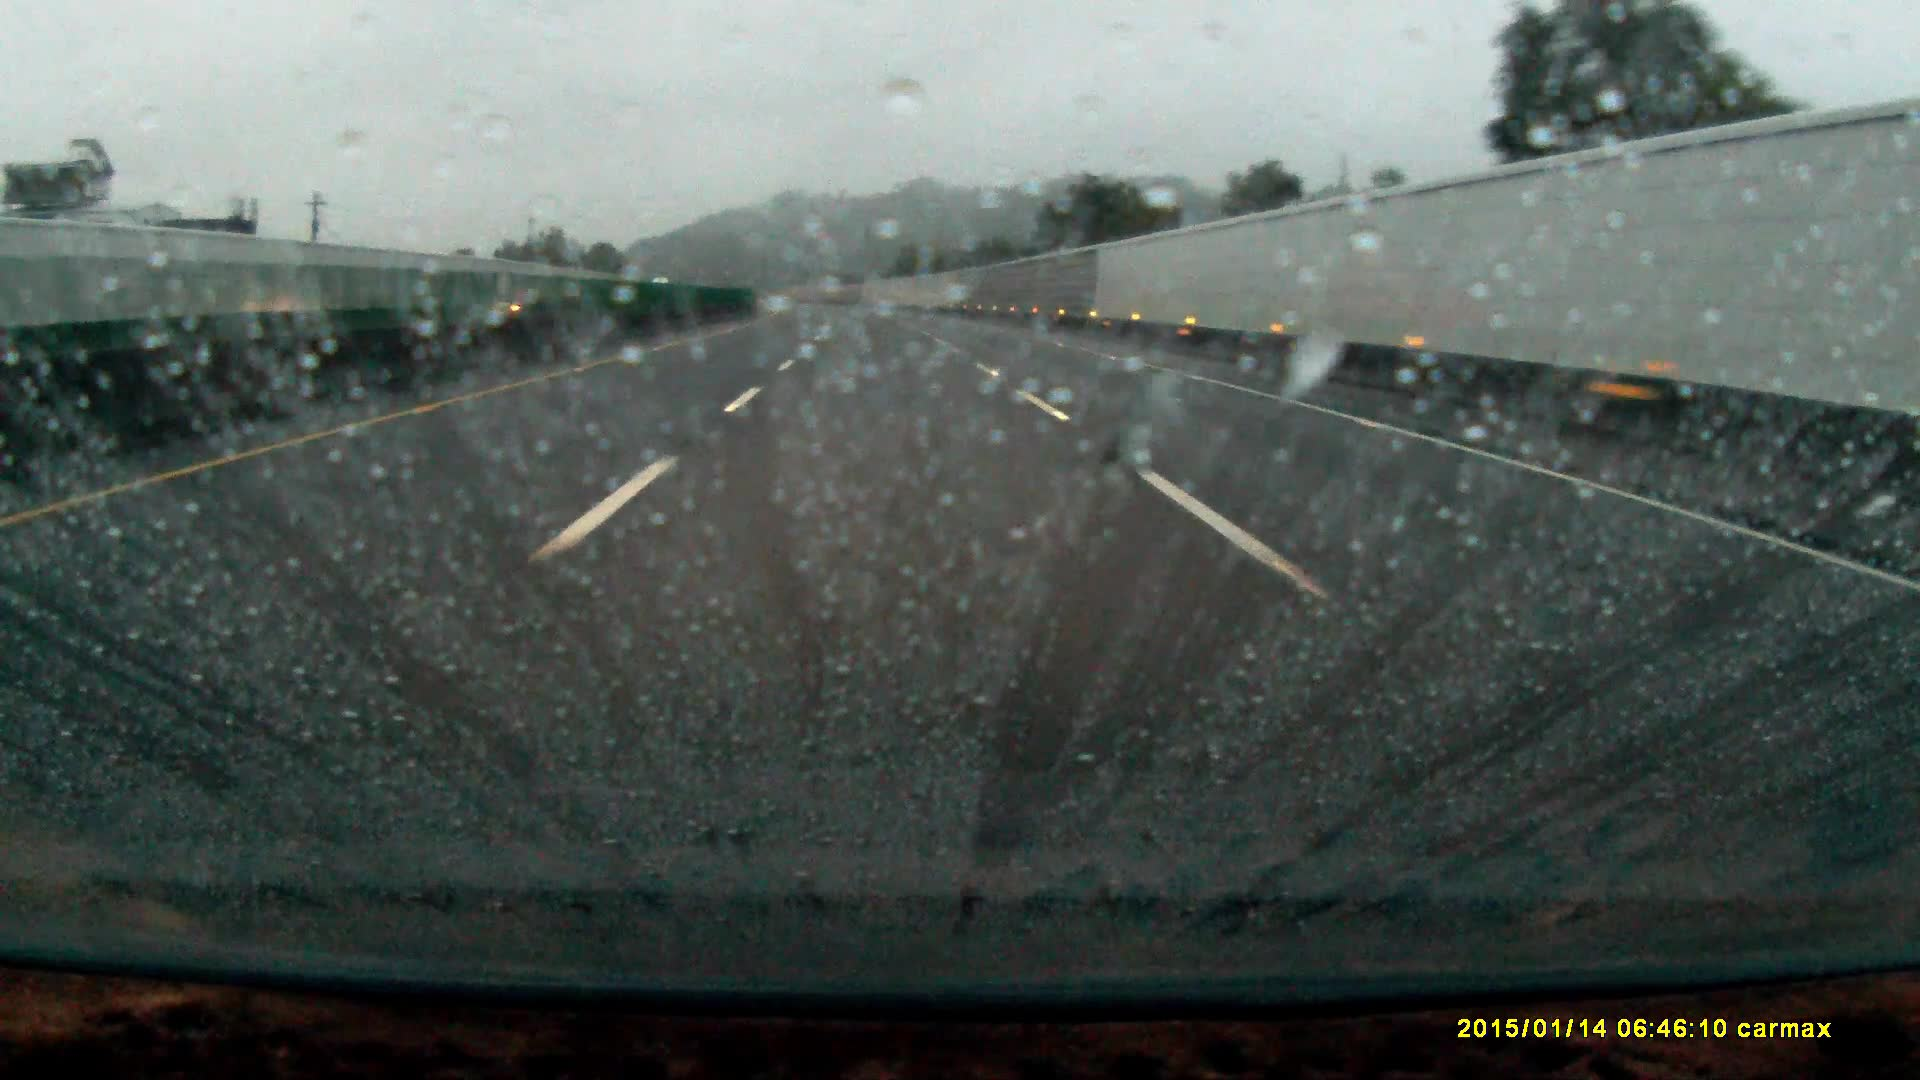vehicle: (484, 293, 535, 320)
